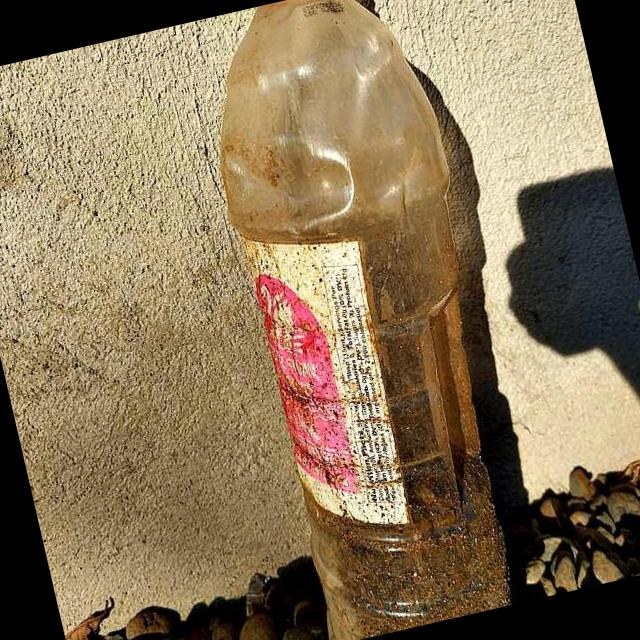Non-biodegradable: (185, 1, 550, 640)
